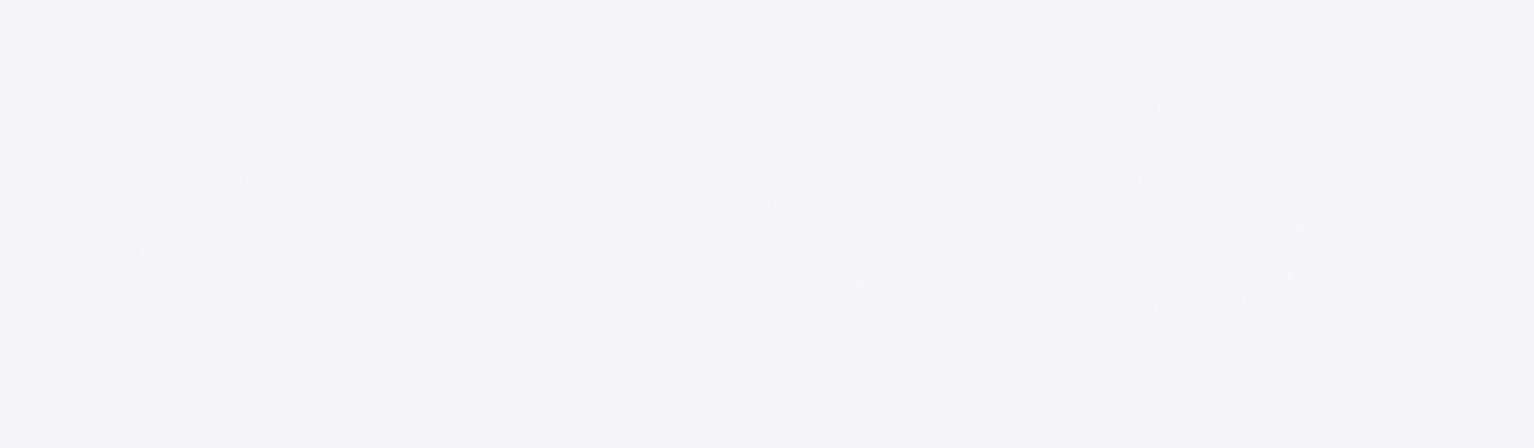
File: flakes_heavy.glb
The picture shows the model from 3 angles, left to right: view 1: azimuth 30°, elevation 25°; view 2: azimuth 150°, elevation 25°; view 3: azimuth 270°, elevation 25°; orthographic projection. The views are drawn at different scales.
Bounding box in the file's own units: 25.06 × 16.31 × 25.05.
1 material, 1 textured.
